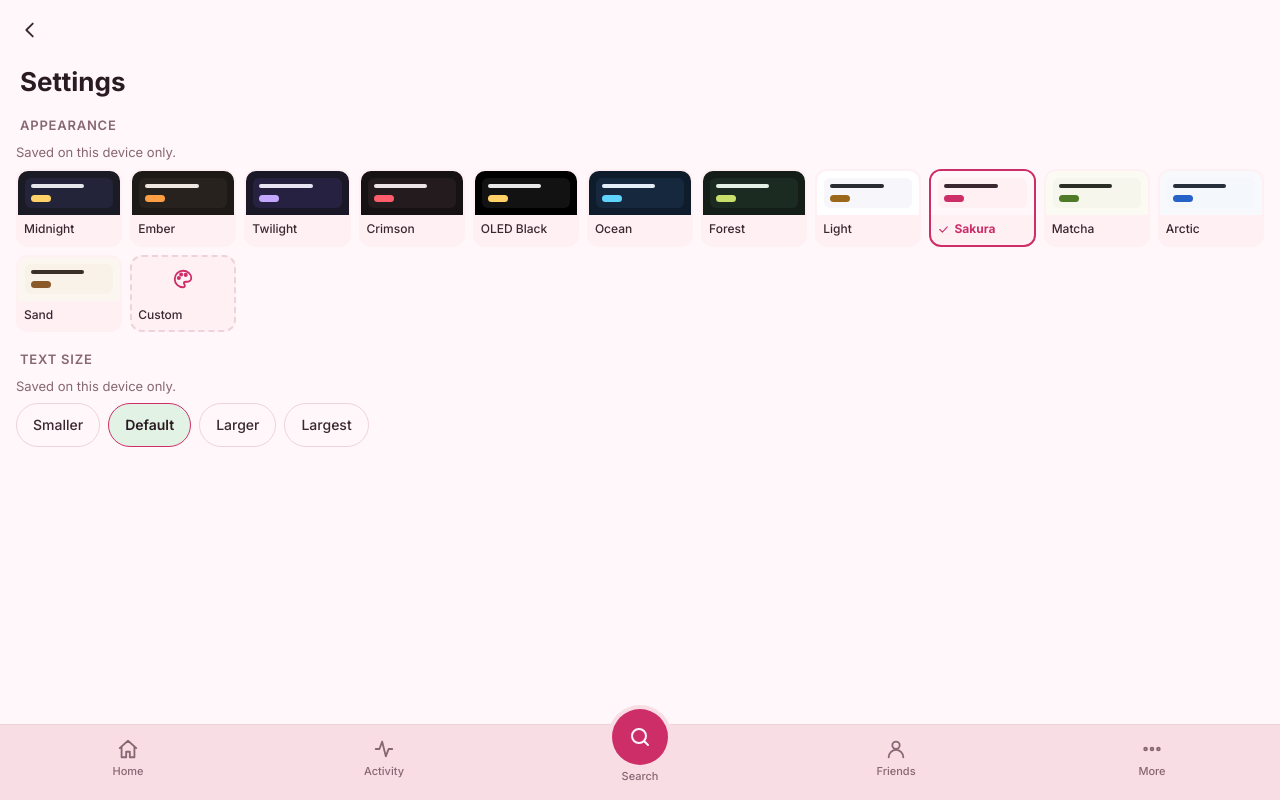
Test: Settings: theme picker › picking Custom with no saved colours starts from the theme on screen
This screenshot has width=1280, height=800.
What coordinates should you click on to do the following:
click the radio button labelled "Custom"
I would click on:
 (183, 294)
Its box is x1=130 y1=255 x2=236 y2=332.
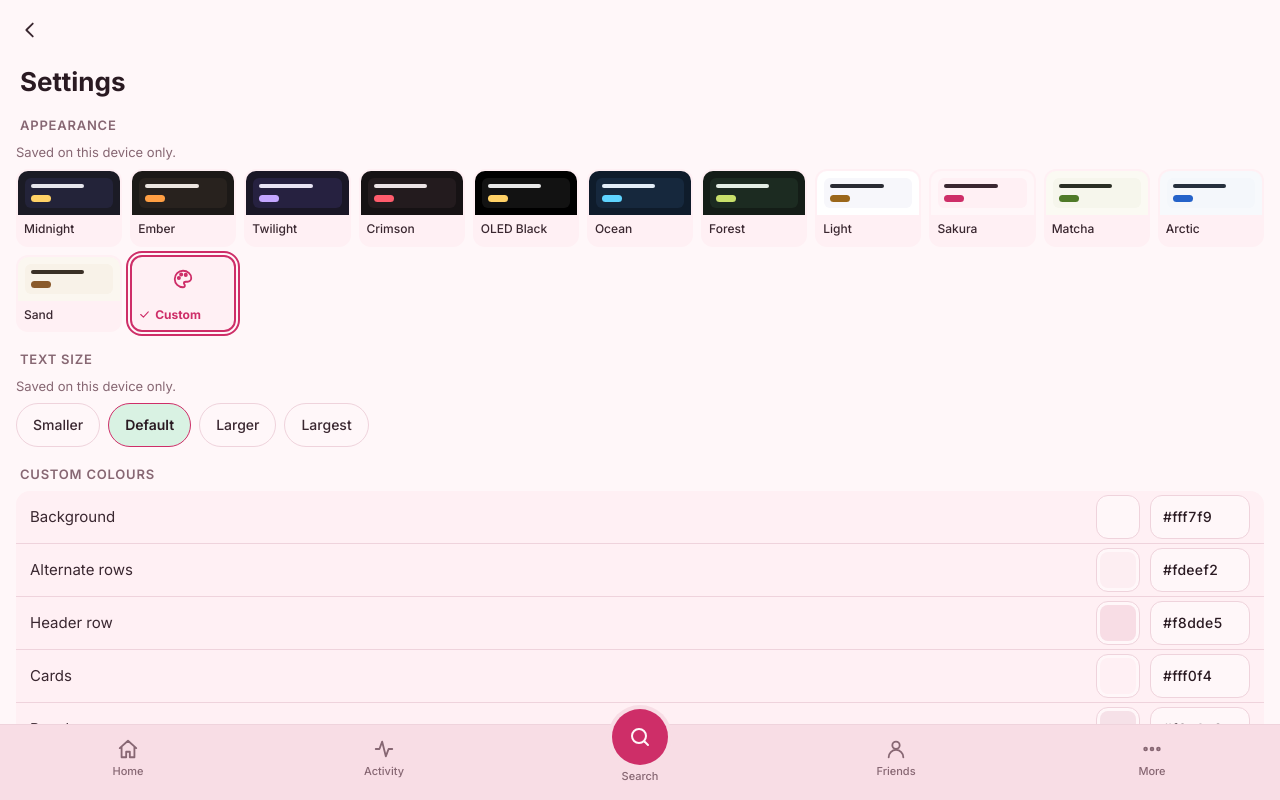
Expected: the heading "Custom colours" is shown, x1=20 y1=466 x2=155 y2=482
Expected: the field named "Background hex" holds "#fff7f9", x1=1150 y1=495 x2=1250 y2=539
